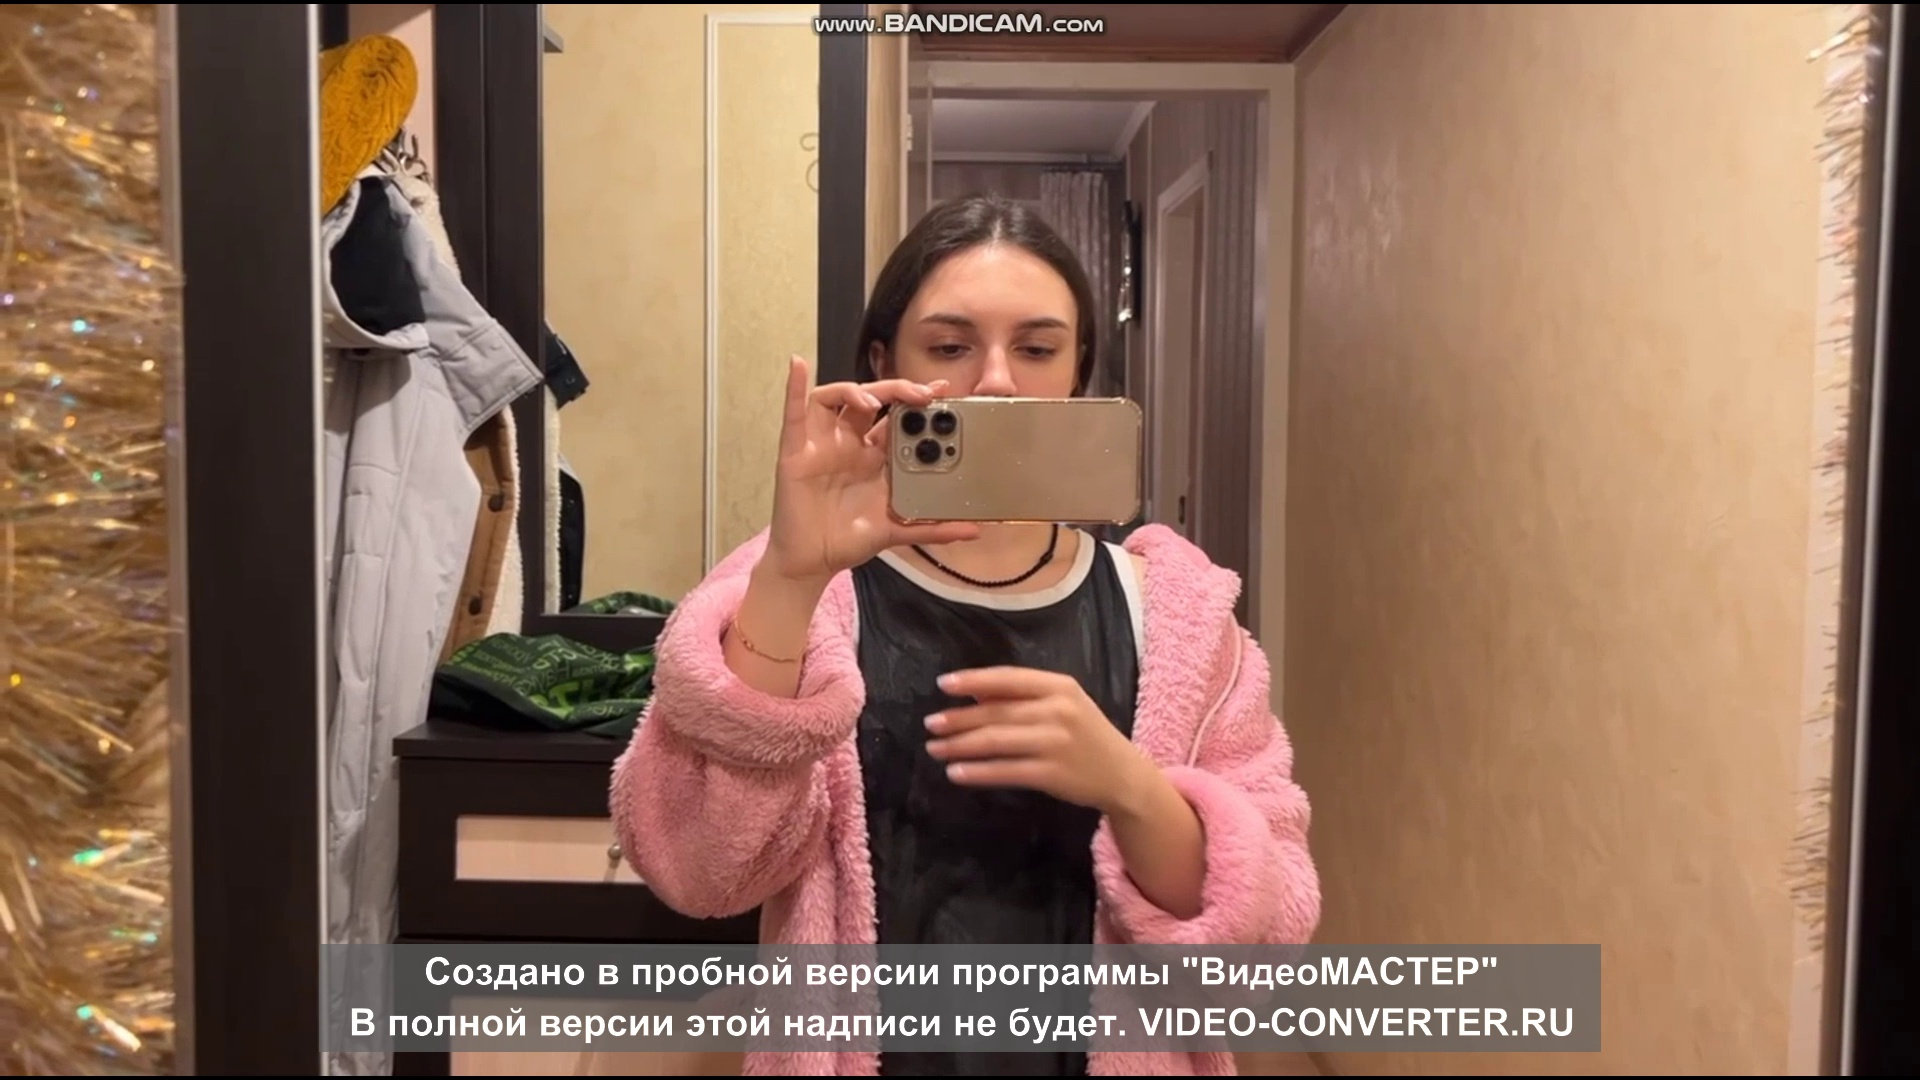Кисть: (922, 658, 1109, 806)
